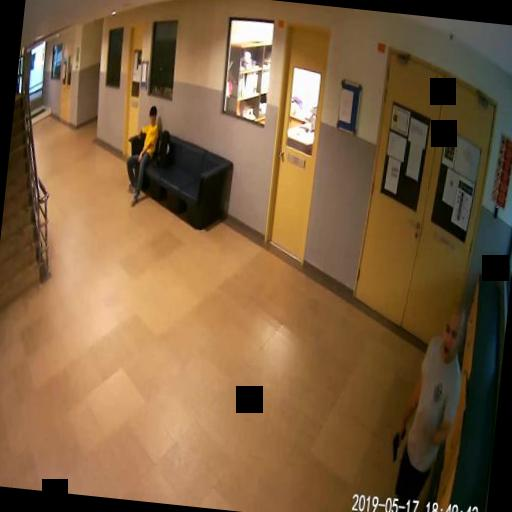Handgun: (390, 421, 404, 461)
